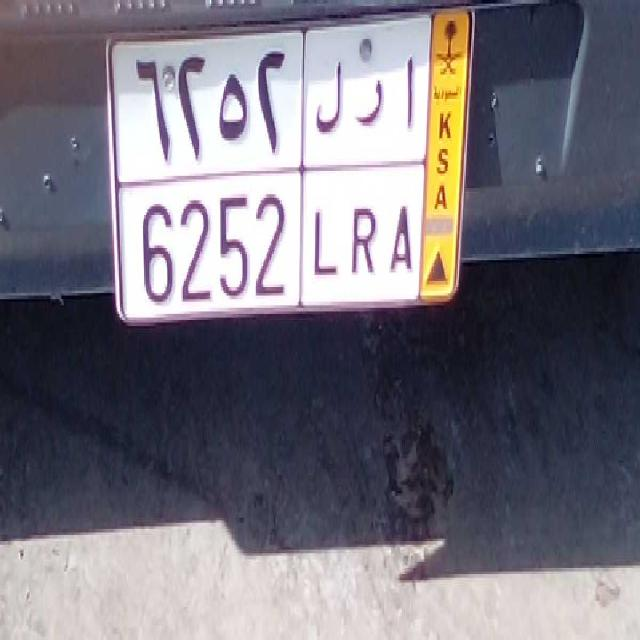license_plate: (133, 167, 416, 326)
